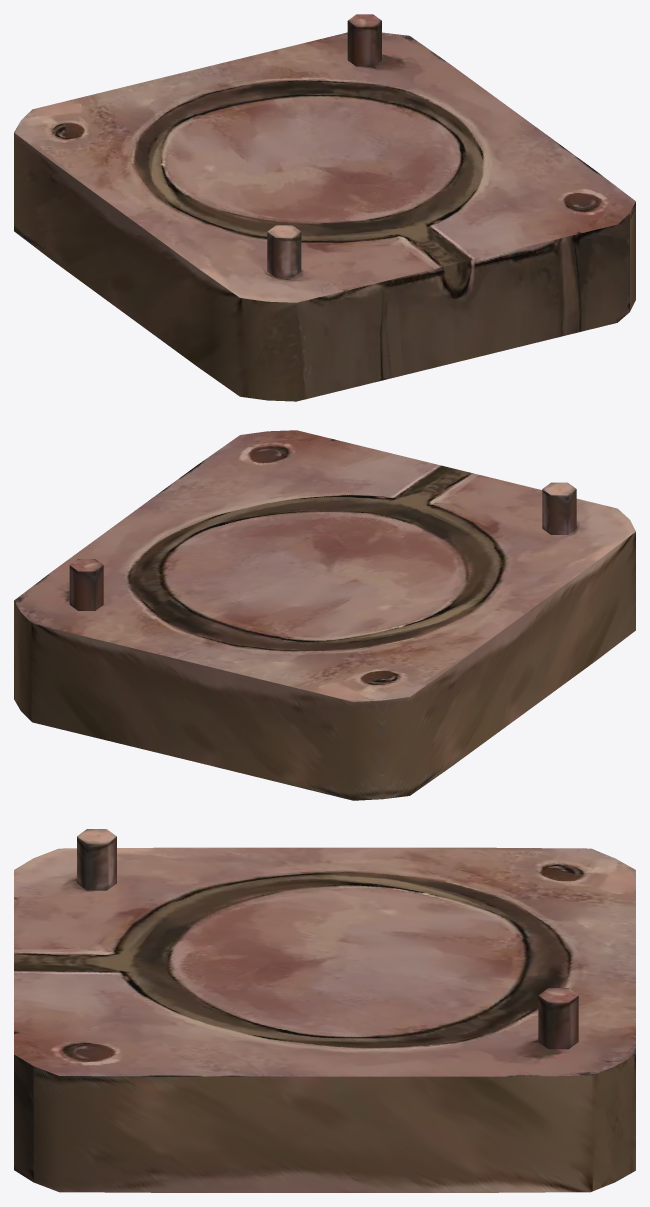
3 renders of one model, top to bottom at view 1: azimuth 30°, elevation 25°; view 2: azimuth 150°, elevation 25°; view 3: azimuth 270°, elevation 25°, orthographic. The views are drawn at different scales.
Parts seen in each view (by area): view 1: SM_Bracelet_Mould_Unfired_01_LOD0; view 2: SM_Bracelet_Mould_Unfired_01_LOD0; view 3: SM_Bracelet_Mould_Unfired_01_LOD0.
Part boxes in pixels (x1,y1,x2,y2): SM_Bracelet_Mould_Unfired_01_LOD0: (14,14,635,401); SM_Bracelet_Mould_Unfired_01_LOD0: (14,430,635,800); SM_Bracelet_Mould_Unfired_01_LOD0: (14,829,635,1192).
Bounding box in the file's own units: 0.2745 × 0.0912 × 0.3154.
1 material, 1 textured.
